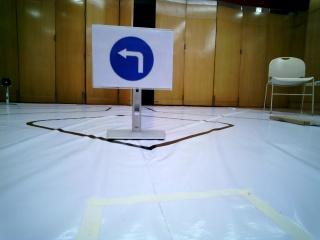left: (96, 28, 159, 87)
